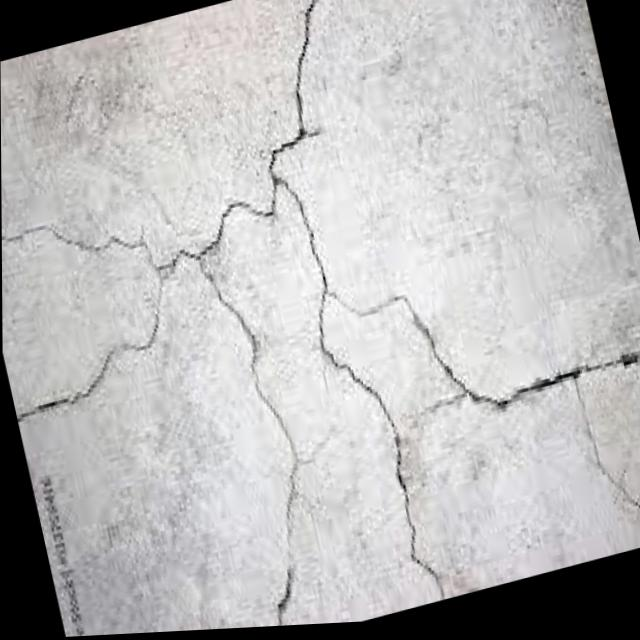Crack: (5, 16, 640, 640), (180, 266, 333, 633)
